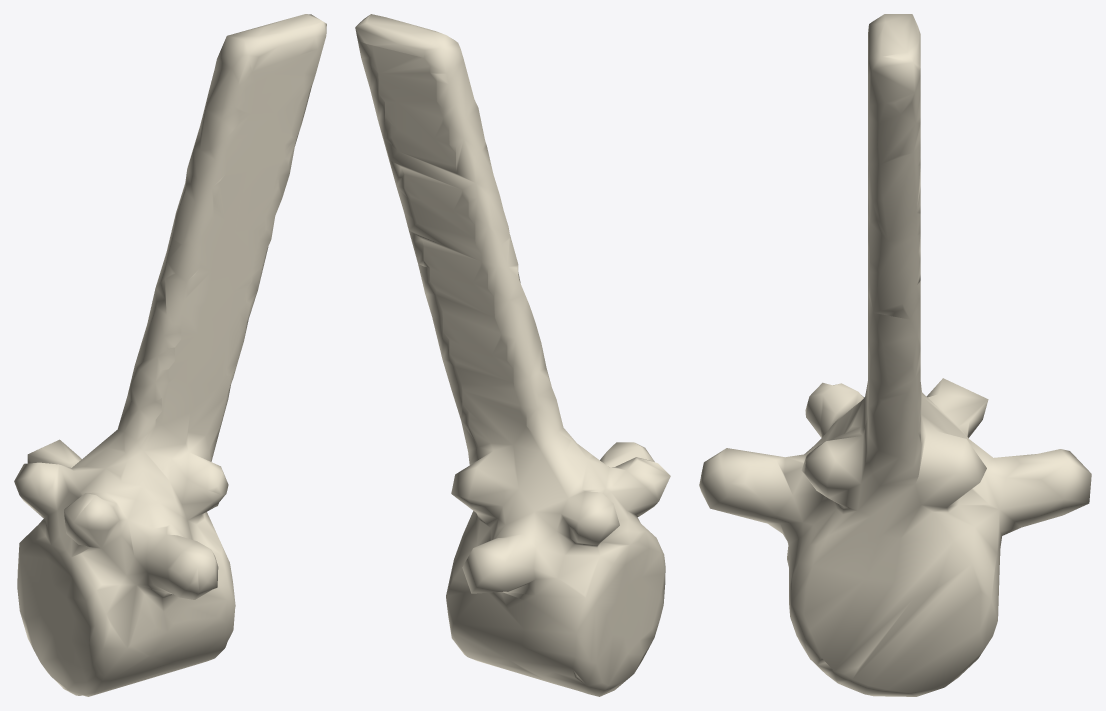
File: thoracic_7.glb
The picture shows the model from 3 angles, left to right: view 1: azimuth 30°, elevation 25°; view 2: azimuth 150°, elevation 25°; view 3: azimuth 270°, elevation 25°; orthographic projection. The views are drawn at different scales.
Visible parts, largest first — view 1: geometry_0; view 2: geometry_0; view 3: geometry_0.
Boxes of the visible parts, bbox=[...] form: geometry_0: bbox=[14, 14, 326, 696]; geometry_0: bbox=[355, 14, 670, 696]; geometry_0: bbox=[699, 14, 1091, 696].
Size of the model in its own units: 0.1751 by 0.3633 by 0.1787.
